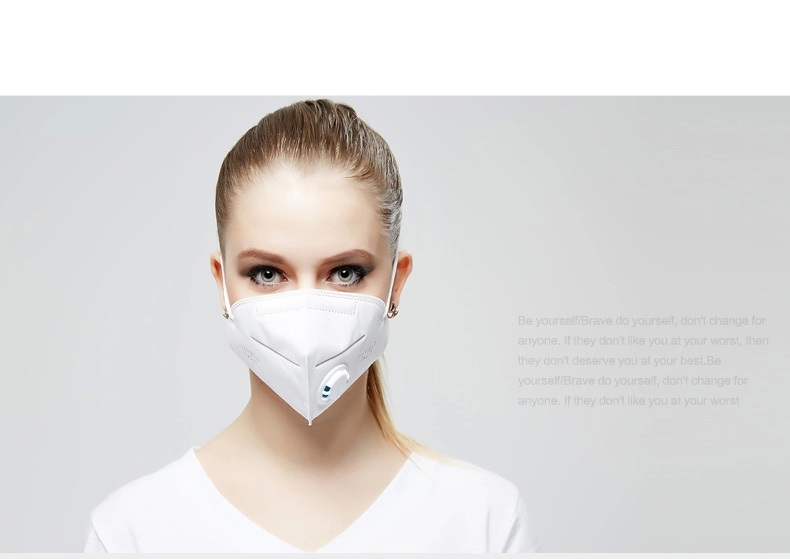face_mask: (221, 168, 393, 385)
